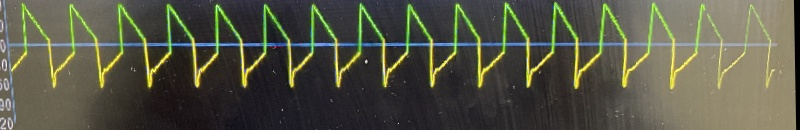peepi: (7, 0, 777, 93)
